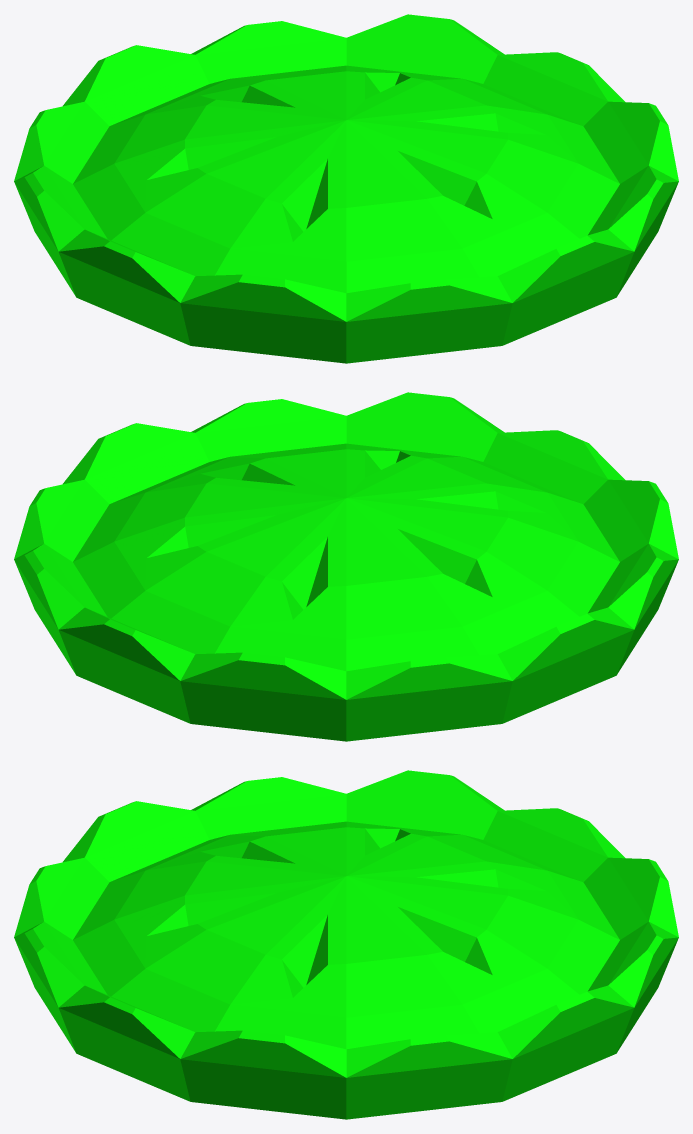
The model's file is SM_Pie_Fruit.fbx.
3 renders of one model, top to bottom at view 1: azimuth 30°, elevation 25°; view 2: azimuth 150°, elevation 25°; view 3: azimuth 270°, elevation 25°, orthographic.
Parts seen in each view (by area): view 1: pie-fruit; view 2: pie-fruit; view 3: pie-fruit.
Boxes of the visible parts, x1=… form: pie-fruit: x1=14, y1=14, x2=678, y2=363; pie-fruit: x1=14, y1=392, x2=678, y2=741; pie-fruit: x1=14, y1=770, x2=678, y2=1119.
Bounding box in the file's own units: 0.4436 × 0.0822 × 0.4436.
